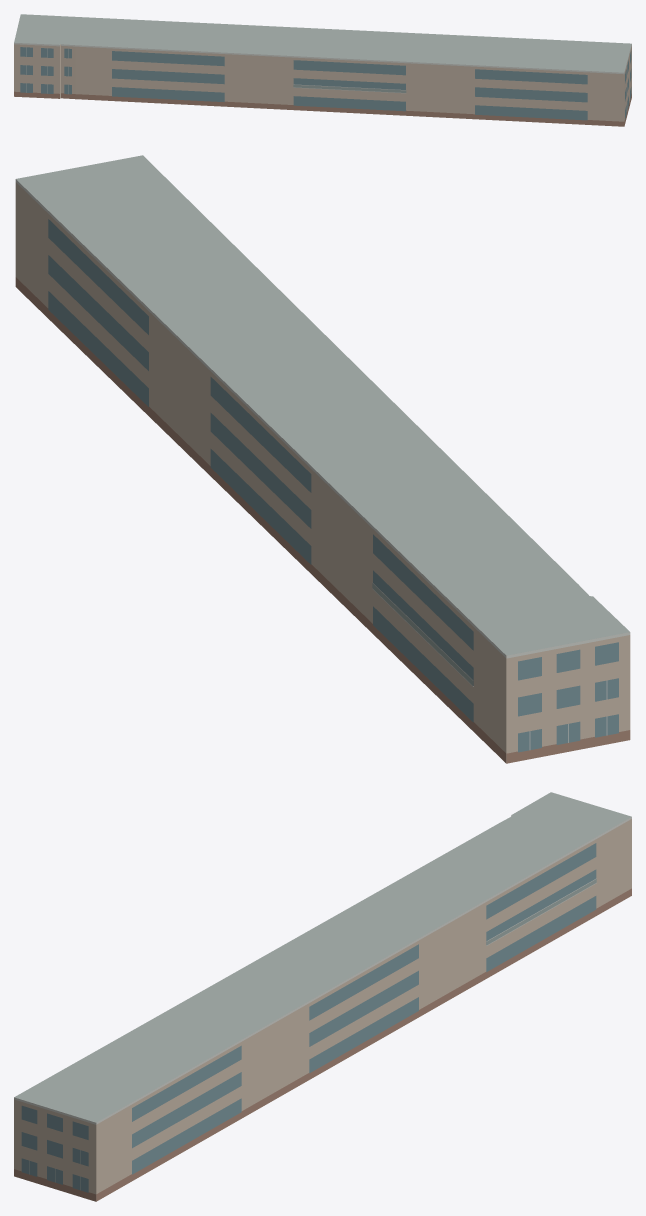
The model's file is survey-upis-32627497.glb.
3 views of the same model, one above another, from view 1: azimuth 30°, elevation 25°; view 2: azimuth 150°, elevation 25°; view 3: azimuth 270°, elevation 25° (orthographic). The views are drawn at different scales.
Visible parts, largest first — view 1: survey-upis-32627497.tmp; view 2: survey-upis-32627497.tmp; view 3: survey-upis-32627497.tmp.
Part boxes in pixels (bbox=[...]): survey-upis-32627497.tmp: bbox=[14, 14, 631, 126]; survey-upis-32627497.tmp: bbox=[15, 155, 630, 763]; survey-upis-32627497.tmp: bbox=[14, 792, 631, 1201].
Size of the model in its own units: 82.06 by 9.15 by 64.81.
